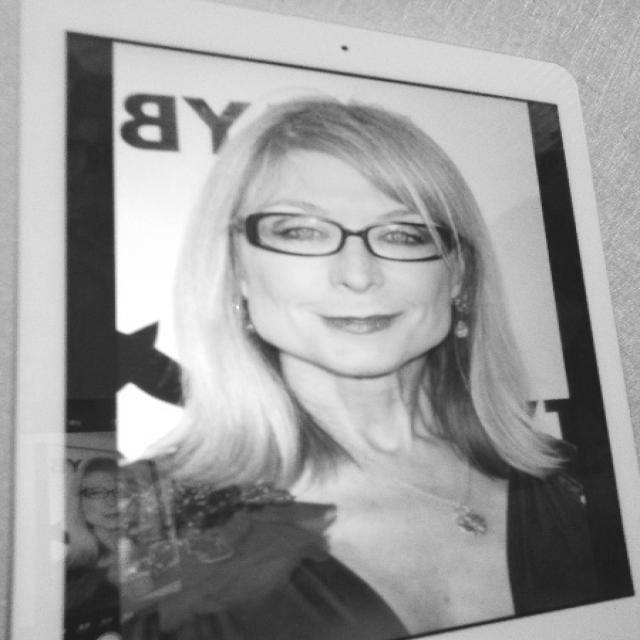fake: (18, 0, 622, 640)
